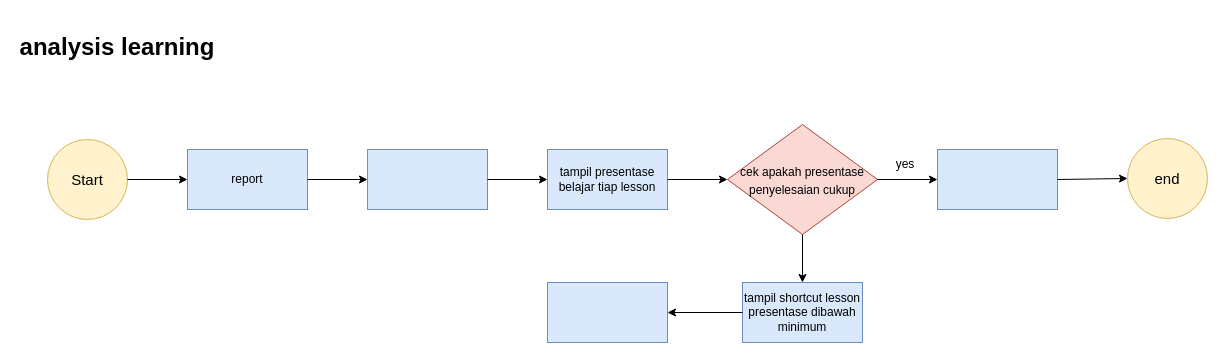
Some shapes in this 1225 by 360 pixel diagram are drawn without their labels. The centre of each missing label's shape, as x and y in pixels:
"kembali ke home" goes at point 607,312.
"lesson list" goes at point 427,179.
"sertifikat" goes at point 997,179.
